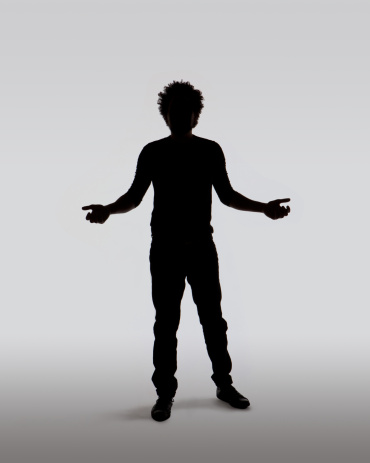em pe: (78, 68, 275, 416)
